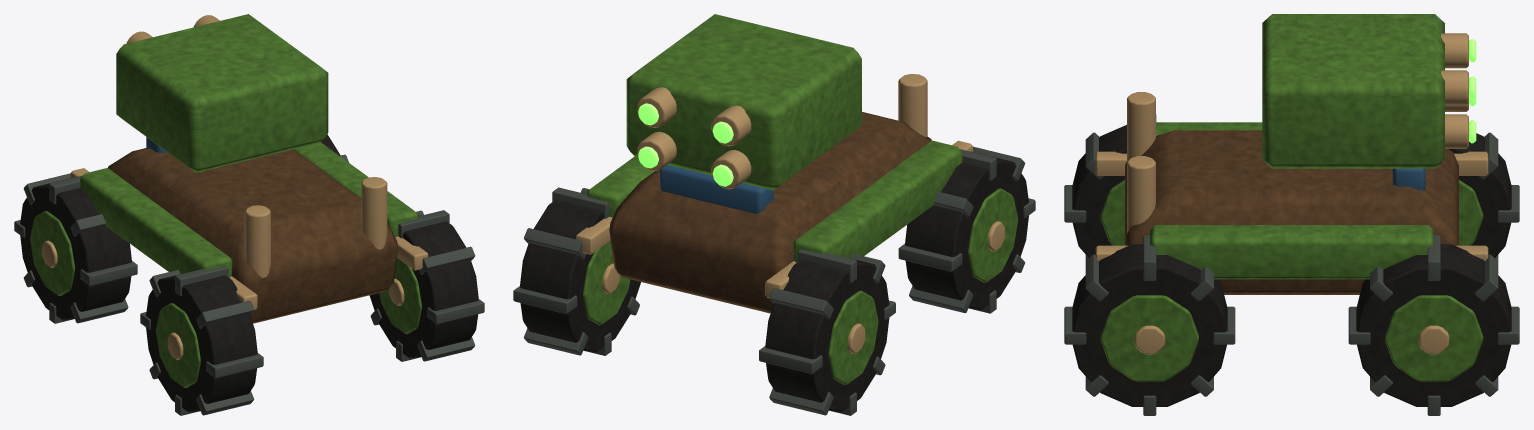
File: vael_harpon.gltf
3 views of the same model, side by side, from view 1: azimuth 30°, elevation 25°; view 2: azimuth 150°, elevation 25°; view 3: azimuth 270°, elevation 25° (orthographic). The views are drawn at different scales.
Visible parts, largest first — view 1: Root.027_Geometry, GunPitch.010_Geometry, Wheel_-0.6554999999999999_-0.007_Geometry, Wheel_-0.6554999999999999_0.007_Geometry, Wheel_0.6554999999999999_-0.007_Geometry; view 2: Root.027_Geometry, GunPitch.010_Geometry, Wheel_-0.6554999999999999_0.007_Geometry, Wheel_-0.6554999999999999_-0.007_Geometry, Wheel_0.6554999999999999_0.007_Geometry; view 3: Root.027_Geometry, GunPitch.010_Geometry, Wheel_0.6554999999999999_0.007_Geometry, Wheel_0.6554999999999999_-0.007_Geometry, Wheel_-0.6554999999999999_-0.007_Geometry, Wheel_-0.6554999999999999_0.007_Geometry.
Boxes of the visible parts, left/top/right/bottom form: Root.027_Geometry: left=70, top=137, right=428, bottom=323; GunPitch.010_Geometry: left=116, top=14, right=328, bottom=172; Wheel_-0.6554999999999999_-0.007_Geometry: left=140, top=266, right=263, bottom=415; Wheel_-0.6554999999999999_0.007_Geometry: left=14, top=173, right=137, bottom=323; Wheel_0.6554999999999999_-0.007_Geometry: left=369, top=210, right=484, bottom=361; Root.027_Geometry: left=576, top=74, right=972, bottom=313; GunPitch.010_Geometry: left=626, top=14, right=861, bottom=190; Wheel_-0.6554999999999999_0.007_Geometry: left=759, top=249, right=895, bottom=415; Wheel_-0.6554999999999999_-0.007_Geometry: left=898, top=146, right=1035, bottom=313; Wheel_0.6554999999999999_0.007_Geometry: left=513, top=187, right=640, bottom=355; Root.027_Geometry: left=1095, top=92, right=1488, bottom=294; GunPitch.010_Geometry: left=1262, top=14, right=1476, bottom=168; Wheel_0.6554999999999999_0.007_Geometry: left=1348, top=235, right=1519, bottom=415; Wheel_0.6554999999999999_-0.007_Geometry: left=1064, top=235, right=1235, bottom=415; Wheel_-0.6554999999999999_-0.007_Geometry: left=1064, top=114, right=1156, bottom=260; Wheel_-0.6554999999999999_0.007_Geometry: left=1448, top=132, right=1519, bottom=260.
Bounding box in the file's own units: 1.65 × 1.47 × 2.07.
Materials: 7 (3 with a texture image).
